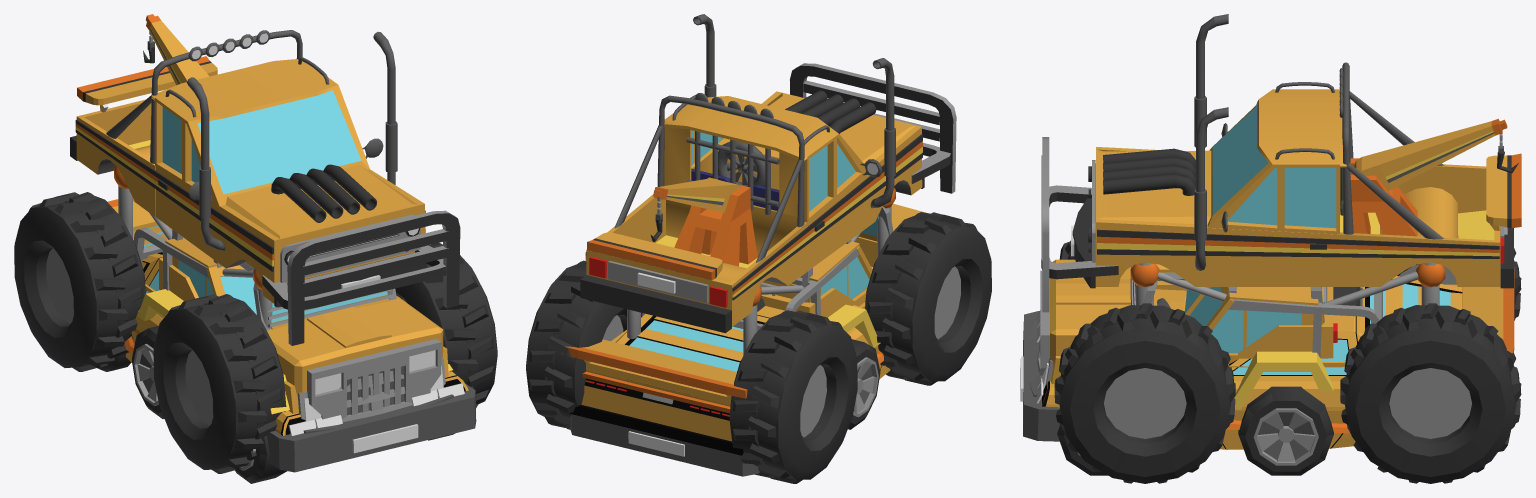
The model's file is MT_PCKP_JP_DLRN.fbx.
3 views of the same model, side by side, from view 1: azimuth 30°, elevation 25°; view 2: azimuth 150°, elevation 25°; view 3: azimuth 270°, elevation 25° (orthographic). The views are drawn at different scales.
Parts seen in each view (by area): view 1: MonsterTruck, Cylinder.007, Cylinder.001, Jeep, Bobcat, Cylinder.004, dELOREAN, W_B_L, W_F_R; view 2: MonsterTruck, Cylinder.007, Cylinder.001, Bobcat, dELOREAN, Cylinder.005, Jeep, W_B_L; view 3: MonsterTruck, Cylinder.004, Cylinder.005, Bobcat, Jeep, dELOREAN, W_B_R, Cylinder.007, W_F_L.
Boxes of the visible parts, x1=… form: MonsterTruck: x1=70, y1=14, x2=460, y2=345; Cylinder.007: x1=14, y1=192, x2=145, y2=371; Cylinder.001: x1=153, y1=294, x2=286, y2=473; Jeep: x1=137, y1=229, x2=453, y2=433; Bobcat: x1=107, y1=198, x2=476, y2=472; Cylinder.004: x1=395, y1=243, x2=497, y2=407; dELOREAN: x1=125, y1=225, x2=468, y2=435; W_B_L: x1=132, y1=325, x2=164, y2=418; W_F_R: x1=235, y1=435, x2=286, y2=483; MonsterTruck: x1=580, y1=14, x2=956, y2=355; Cylinder.007: x1=729, y1=310, x2=857, y2=483; Cylinder.001: x1=865, y1=212, x2=991, y2=385; Bobcat: x1=561, y1=241, x2=883, y2=476; dELOREAN: x1=569, y1=305, x2=890, y2=455; Cylinder.005: x1=526, y1=260, x2=642, y2=429; Jeep: x1=757, y1=203, x2=926, y2=347; W_B_L: x1=848, y1=339, x2=880, y2=429; MonsterTruck: x1=1041, y1=14, x2=1521, y2=312; Cylinder.004: x1=1054, y1=303, x2=1235, y2=483; Cylinder.005: x1=1340, y1=303, x2=1521, y2=483; Bobcat: x1=1020, y1=267, x2=1514, y2=441; Jeep: x1=1028, y1=259, x2=1362, y2=409; dELOREAN: x1=1036, y1=276, x2=1462, y2=449; W_B_R: x1=1238, y1=386, x2=1333, y2=475; Cylinder.007: x1=1397, y1=248, x2=1521, y2=320; W_F_L: x1=1057, y1=424, x2=1107, y2=475.
Size of the model in its own units: 437 by 542 by 676.
